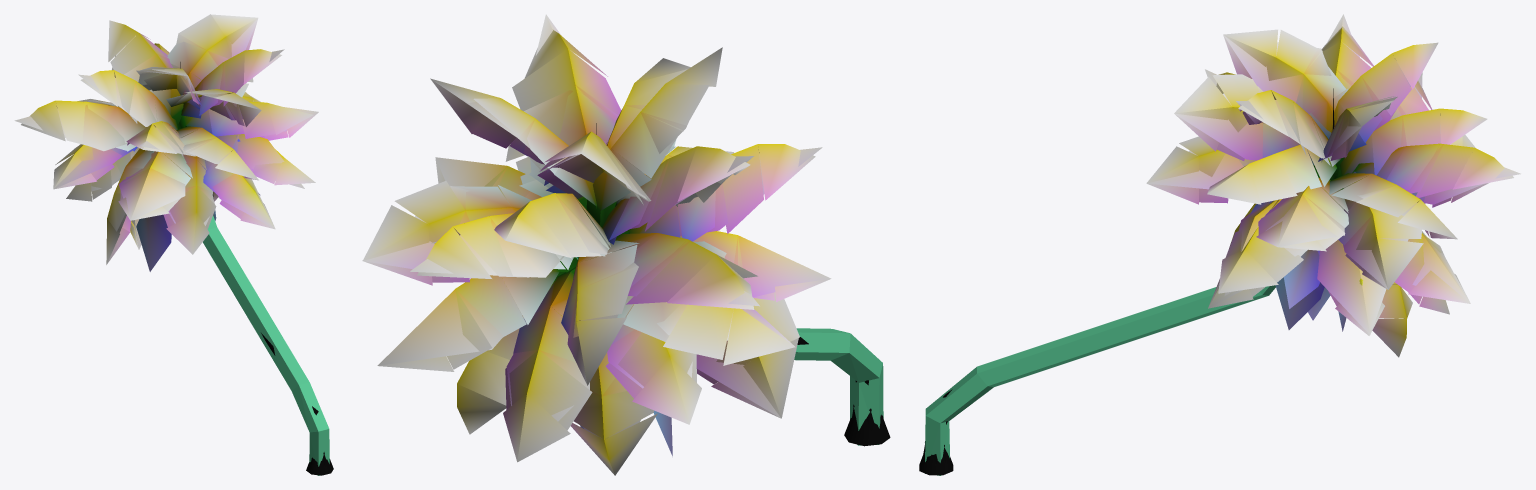
Rendered from tree_palm_overhang_a.dae.
3 views of the same model, side by side, from view 1: azimuth 30°, elevation 25°; view 2: azimuth 150°, elevation 25°; view 3: azimuth 270°, elevation 25° (orthographic). The views are drawn at different scales.
Parts seen in each view (by area): view 1: tree_oak_bush_a350, tree_oak_bush_a150, Colmesh-1; view 2: tree_oak_bush_a350, tree_oak_bush_a150, Colmesh-1; view 3: tree_oak_bush_a350, tree_oak_bush_a150, Colmesh-1.
Part boxes in pixels (<box>): tree_oak_bush_a350: <box>21,14,333,475</box>; tree_oak_bush_a150: <box>14,18,318,249</box>; Colmesh-1: <box>203,215,329,475</box>; tree_oak_bush_a350: <box>362,30,890,475</box>; tree_oak_bush_a150: <box>363,14,830,438</box>; Colmesh-1: <box>576,257,883,445</box>; tree_oak_bush_a350: <box>919,26,1513,475</box>; tree_oak_bush_a150: <box>1146,14,1520,334</box>; Colmesh-1: <box>925,285,1275,475</box>.
Size of the model in its own units: 8.53 by 13.46 by 10.39.
